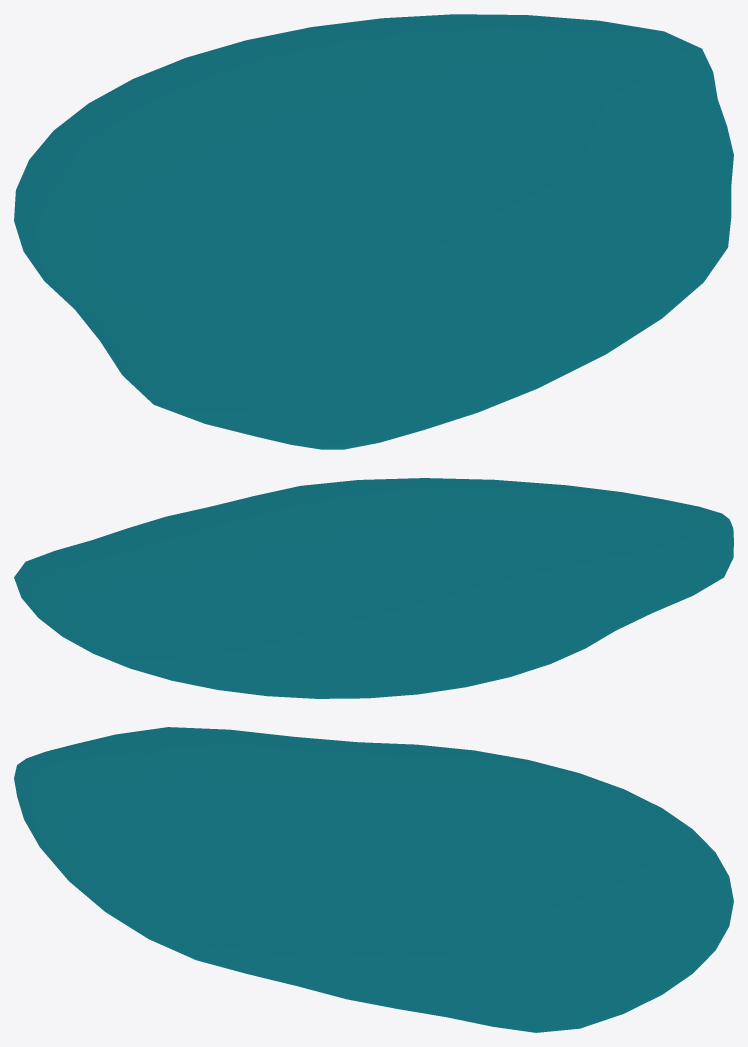
File: Lake2.fbx
3 views of the same model, one above another, from view 1: azimuth 30°, elevation 25°; view 2: azimuth 150°, elevation 25°; view 3: azimuth 270°, elevation 25° (orthographic). The views are drawn at different scales.
Parts seen in each view (by area): view 1: Lake2; view 2: Lake2; view 3: Lake2.
Part boxes in pixels (<box>): Lake2: <box>14,14,733,449</box>; Lake2: <box>14,478,733,698</box>; Lake2: <box>14,727,733,1032</box>.
Size of the model in its own units: 1092 by 4.99 by 1086.
Materials: 1 (1 with a texture image).
